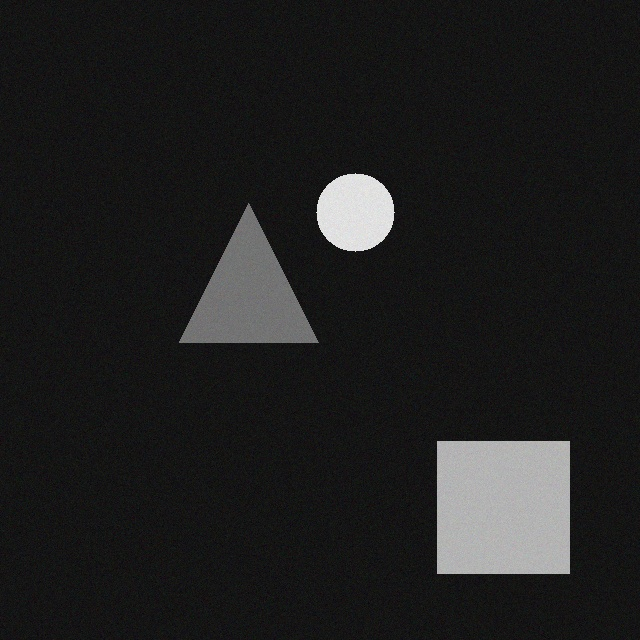circle: (306, 166, 384, 244)
square: (427, 434, 559, 566)
triangle: (169, 196, 308, 335)
